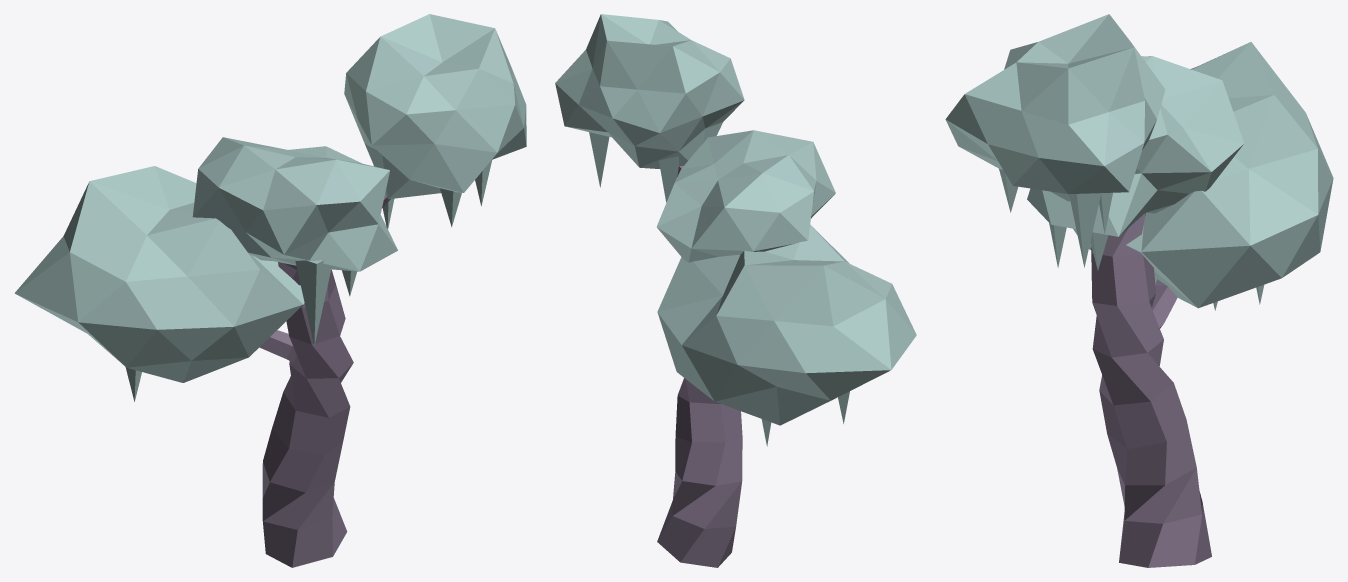
The model's file is goth_tree_teal.glb.
3 renders of one model, left to right at view 1: azimuth 30°, elevation 25°; view 2: azimuth 150°, elevation 25°; view 3: azimuth 270°, elevation 25°, orthographic. The views are drawn at different scales.
Parts seen in each view (by area): view 1: GothTree; view 2: GothTree; view 3: GothTree.
Boxes of the visible parts, x1,y1,x2,y2 form: GothTree: (14,14,526,567); GothTree: (555,14,916,567); GothTree: (945,14,1333,567).
Size of what is drawn, in the model's own units: 5.42 by 6.26 by 3.78.
